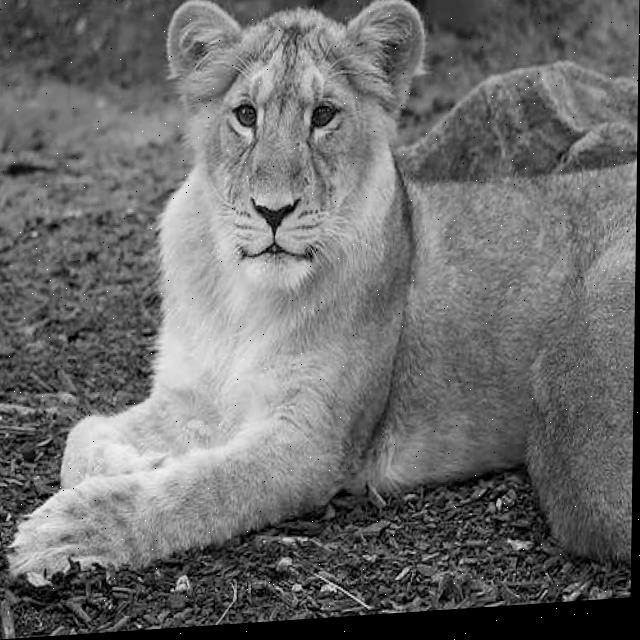Lion: (85, 14, 564, 530)
